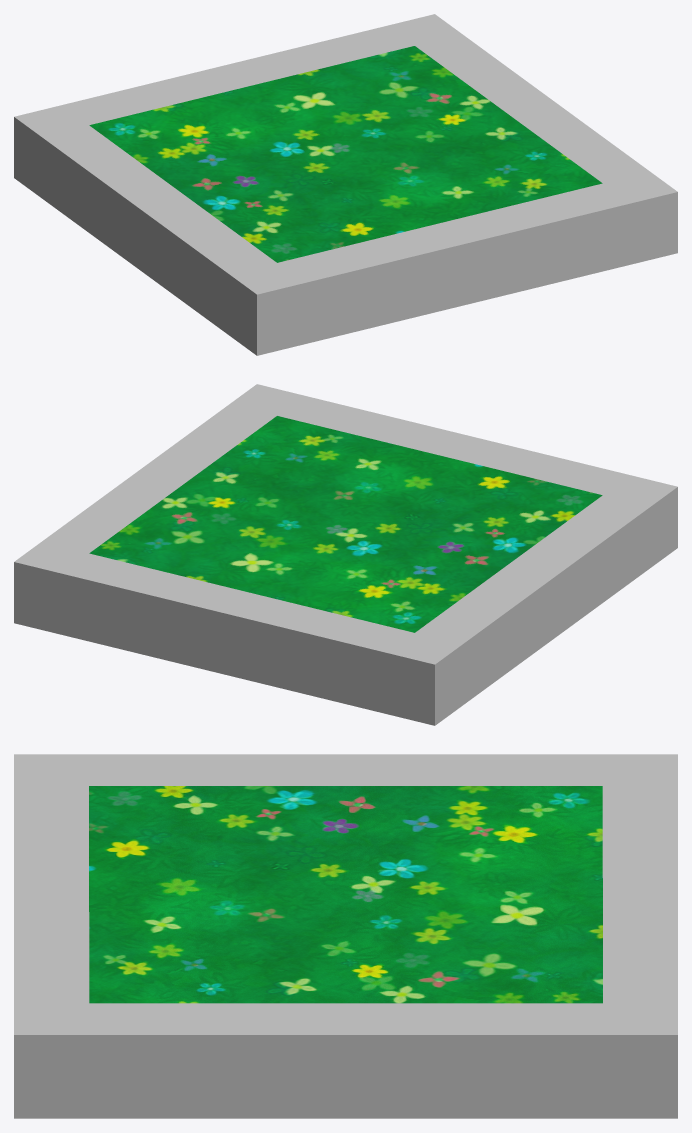
The model's file is Plant02_b03.FBX.
The picture shows the model from 3 angles, top to bottom: view 1: azimuth 30°, elevation 25°; view 2: azimuth 150°, elevation 25°; view 3: azimuth 270°, elevation 25°; orthographic projection. The views are drawn at different scales.
Visible parts, largest first — view 1: Plant02_b03; view 2: Plant02_b03; view 3: Plant02_b03.
Boxes of the visible parts, left/top/right/bottom form: Plant02_b03: left=14, top=14, right=677, bottom=355; Plant02_b03: left=14, top=384, right=677, bottom=725; Plant02_b03: left=14, top=754, right=677, bottom=1118.
Bounding box in the file's own units: 339 × 47.09 × 339.
